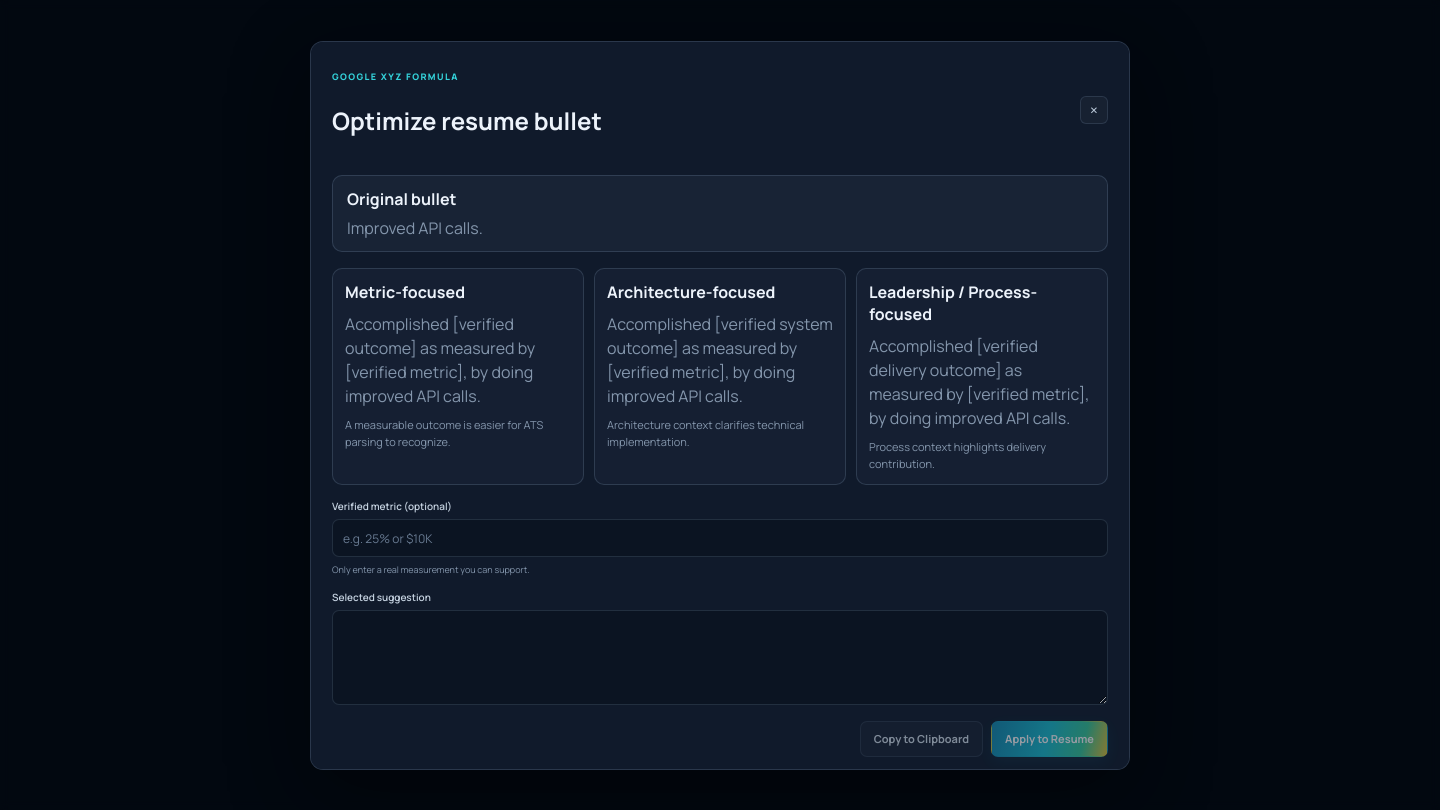
it: BulletOptimizerModal › does not apply an edited suggestion that no longer follows the XYZ formula
The width and height of the screenshot is (1440, 810).
Click the button "Metric-focused" at (458,377), box [332, 268, 584, 485]
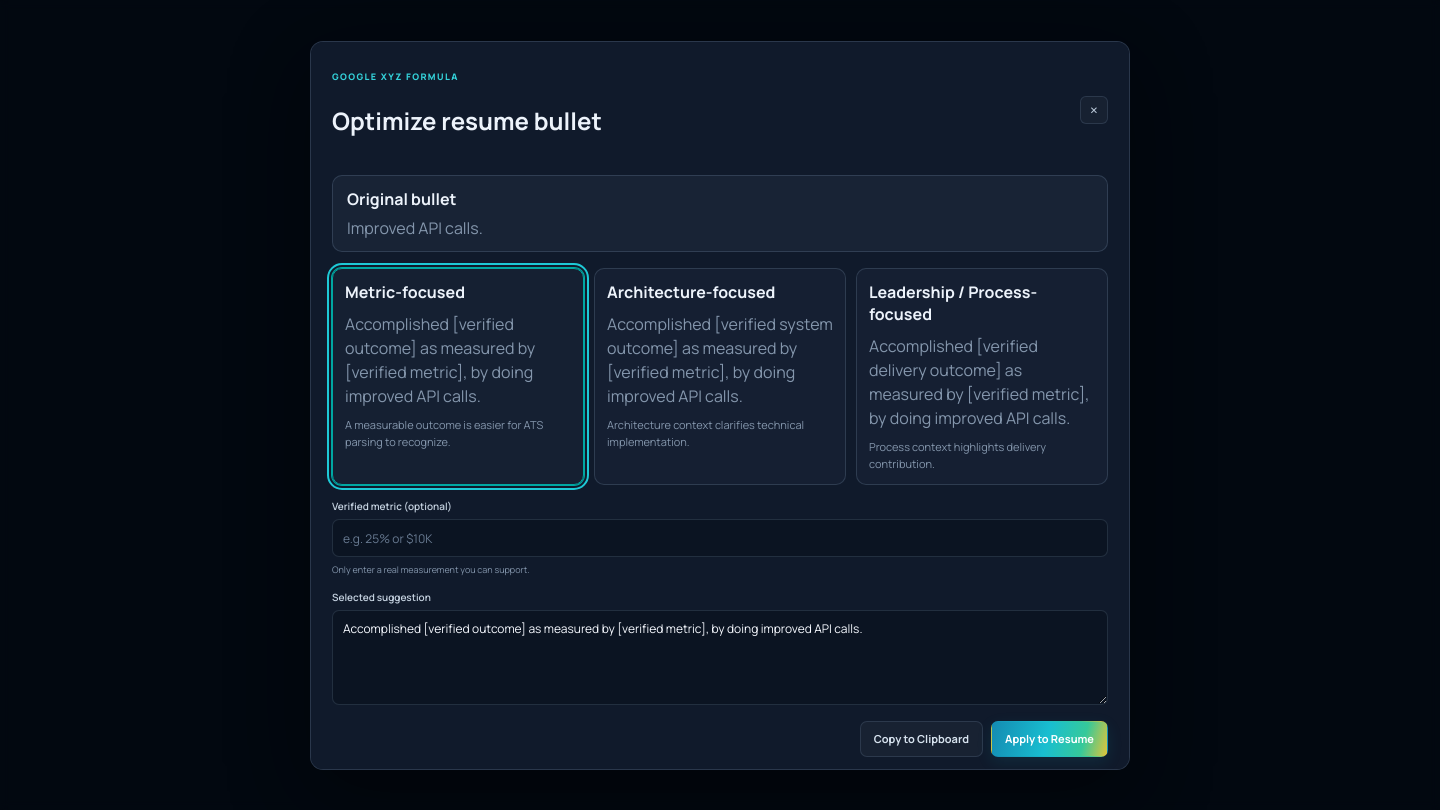
Replace the text in the text box labelled "Selected suggestion" with "Improved APIs." at (720,658), box [332, 610, 1108, 705]
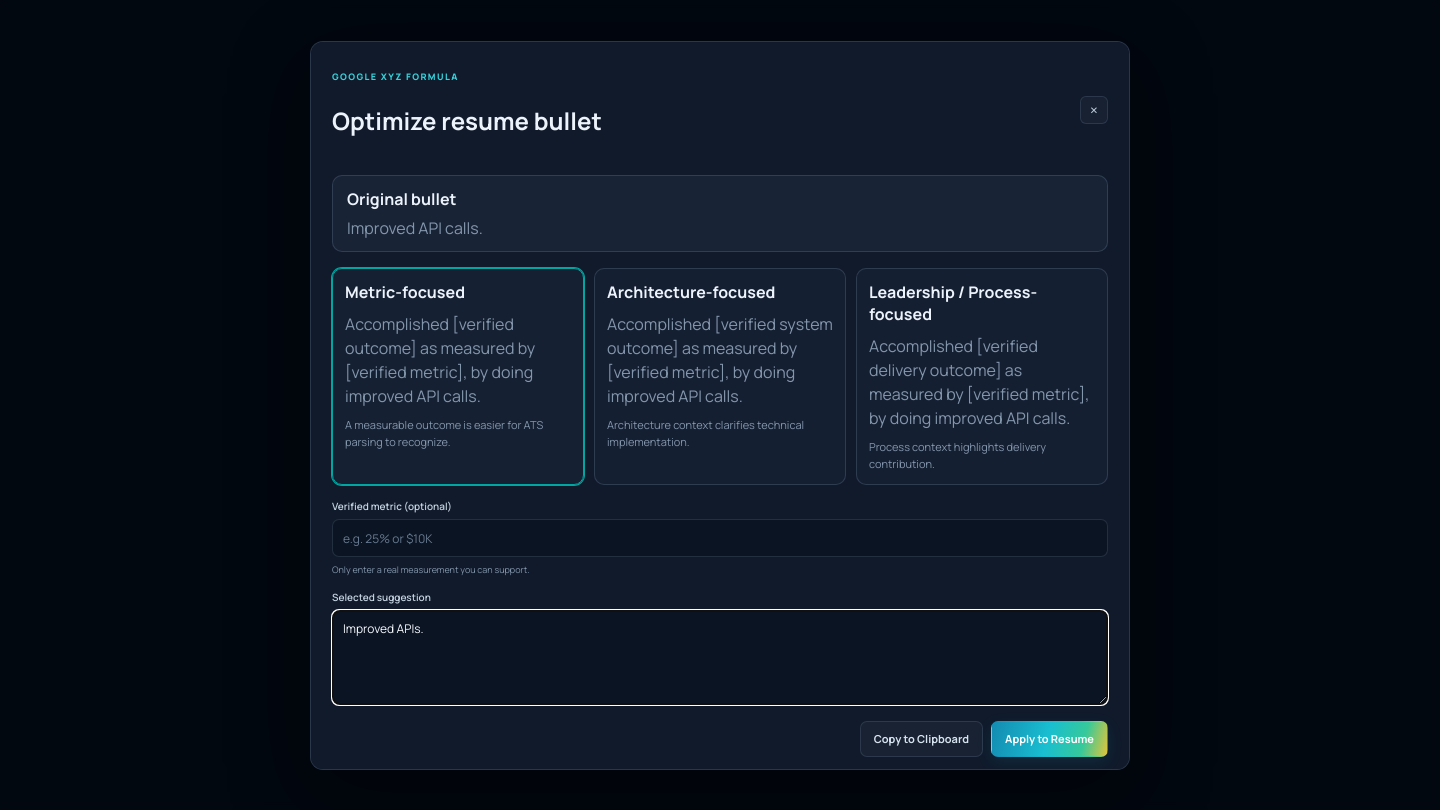
Click the button "Apply to Resume" at (1050,739), box [991, 721, 1108, 757]
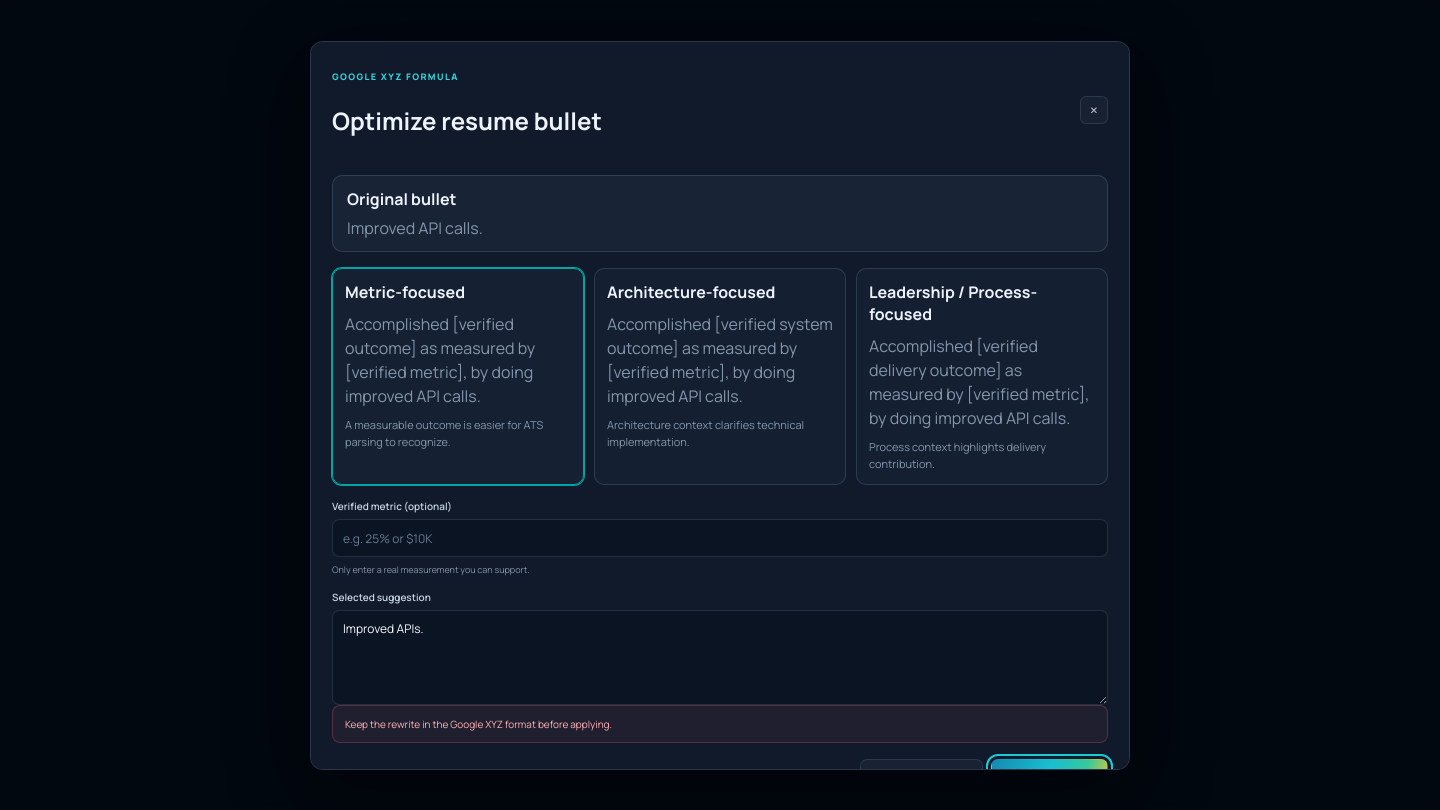
Check: the message reads "Keep the rewrite in the Google XYZ format before applying.", box [345, 717, 612, 731]
